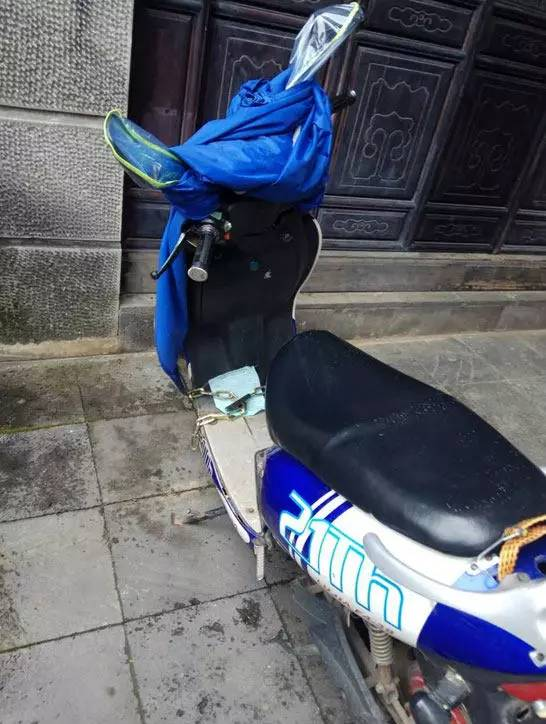电动车: (90, 4, 545, 724)
